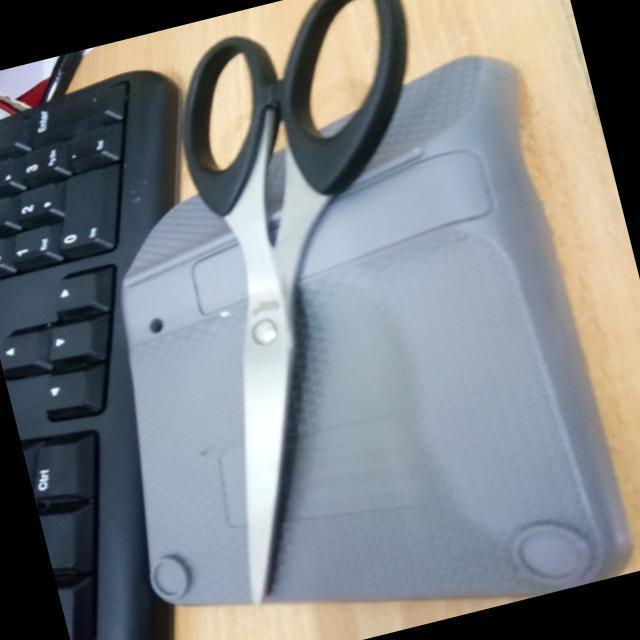scissors: (103, 0, 525, 600)
